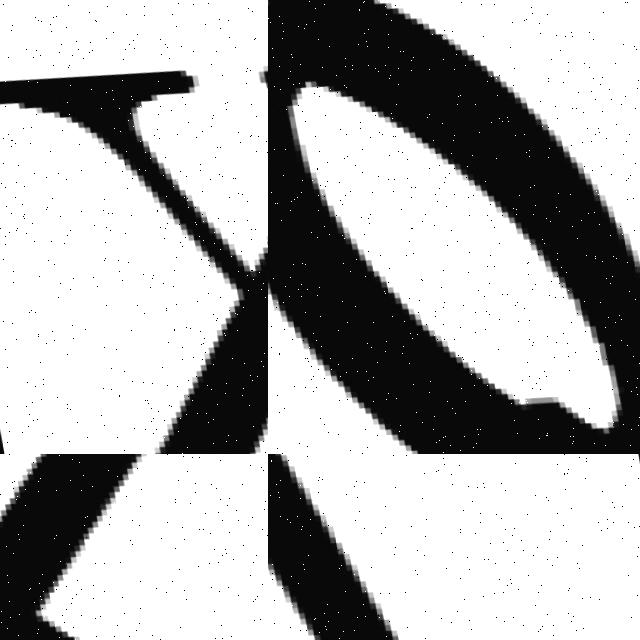0: (268, 0, 640, 454)
7: (268, 454, 581, 640)
K: (0, 454, 268, 640)
X: (0, 0, 268, 454)
